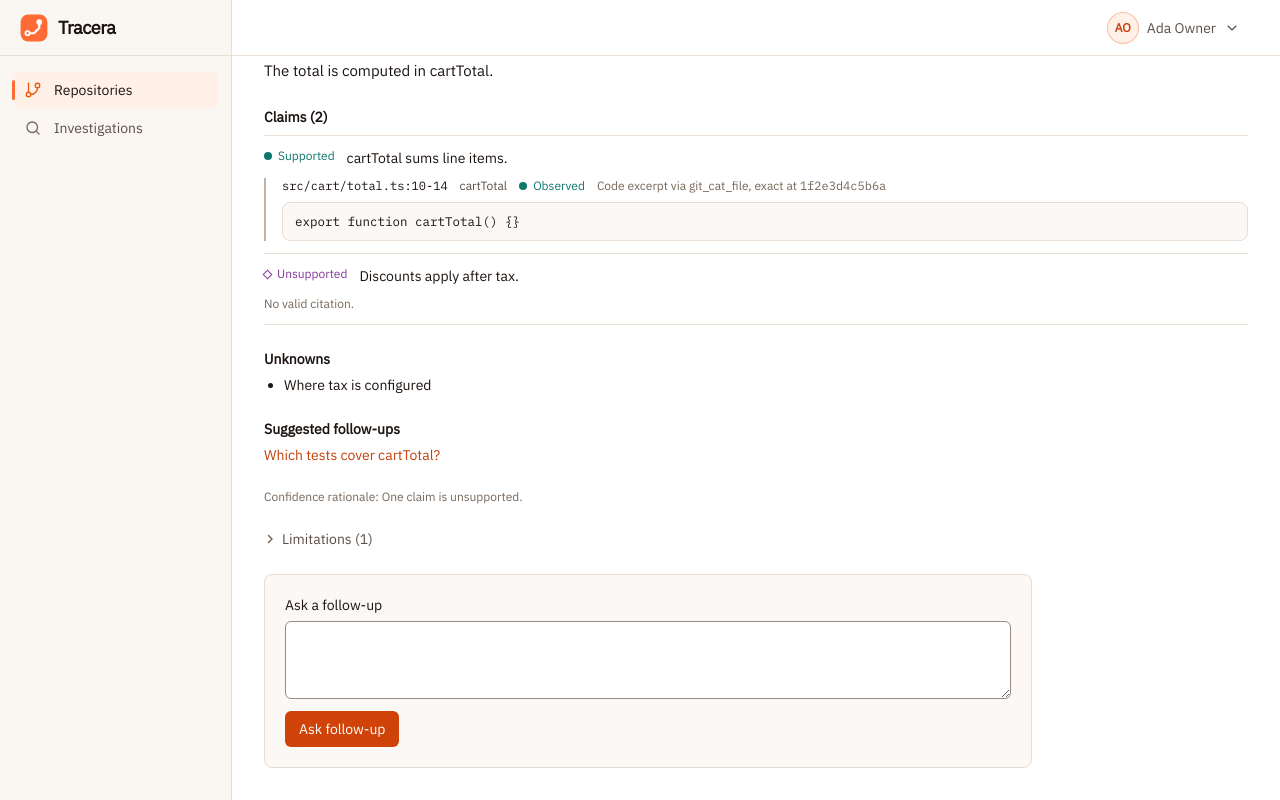
Test: engineering questions › asks a follow-up that carries the earlier question
(page scrolled)
Click the button "Which tests cover cartTotal?".
click(352, 455)  # box x1=264 y1=445 x2=440 y2=465
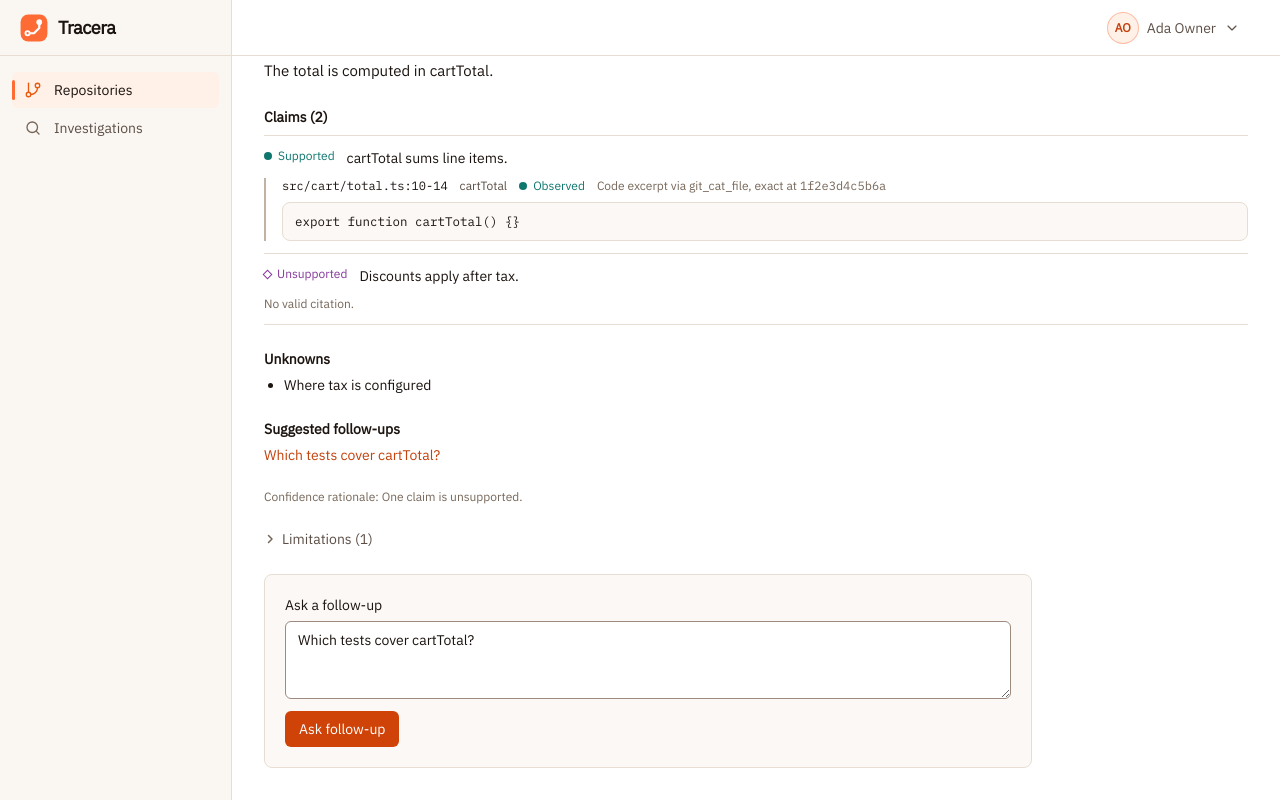
Result: the text box labelled "Ask a follow-up" holds "Which tests cover cartTotal?" at x1=285 y1=621 x2=1011 y2=699
Click the button "Ask follow-up".
click(342, 729)  # box x1=285 y1=711 x2=400 y2=747
(page scrolled)
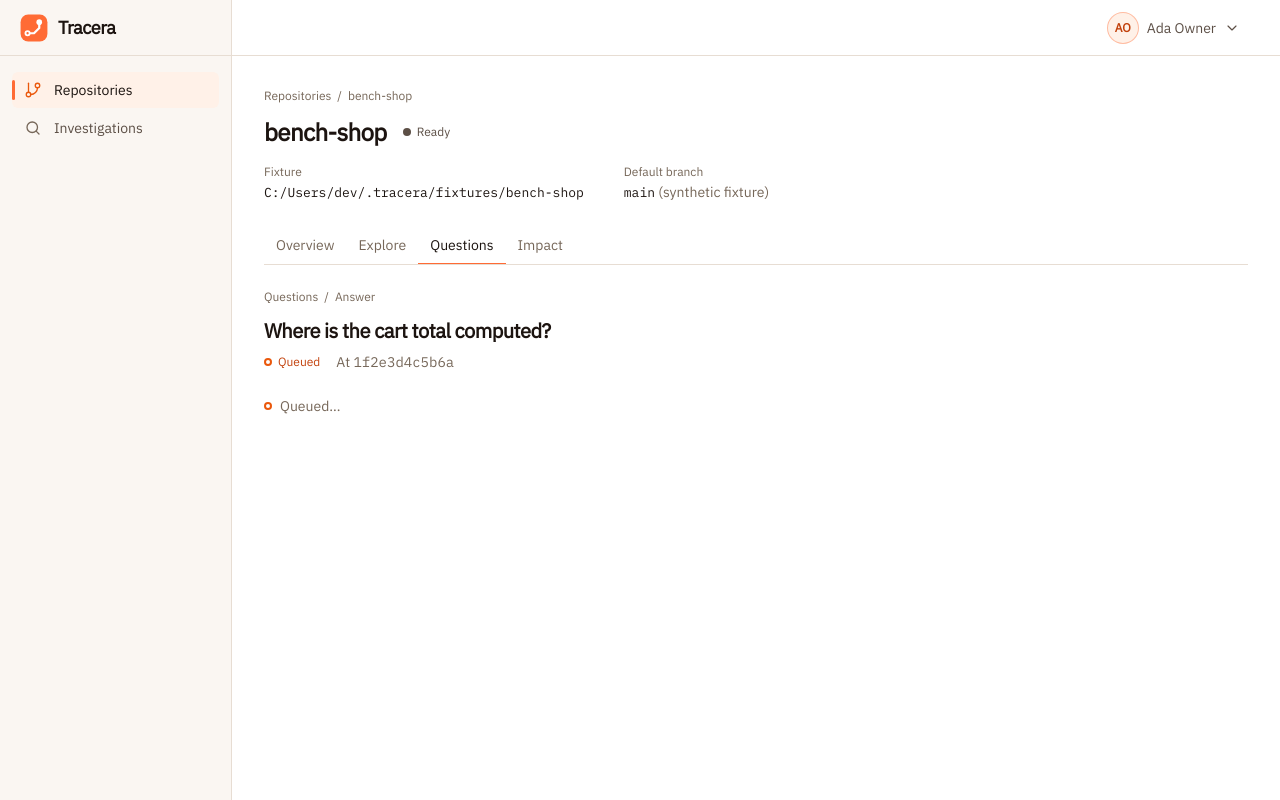
Result: the text "Queued…" is shown at x1=264 y1=397 x2=341 y2=415
